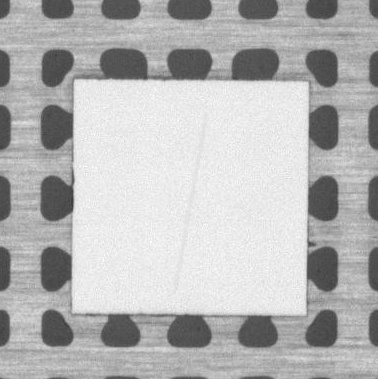DIE_CRACK: (175, 115, 205, 294)
